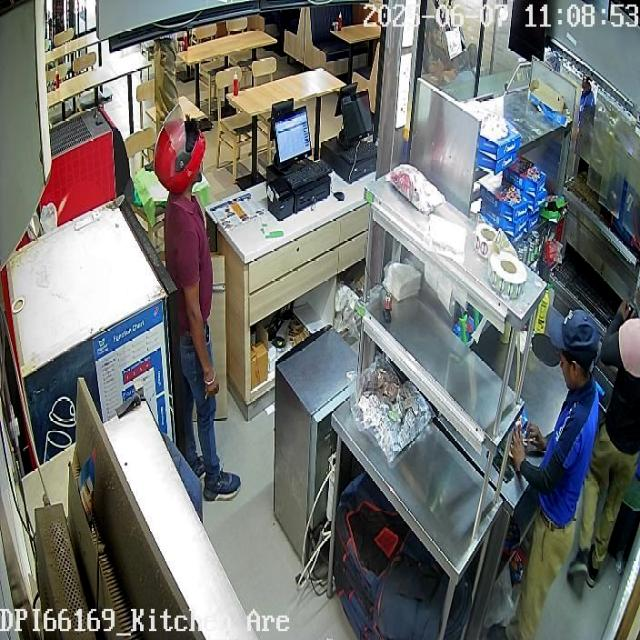helmet: (152, 104, 207, 196)
